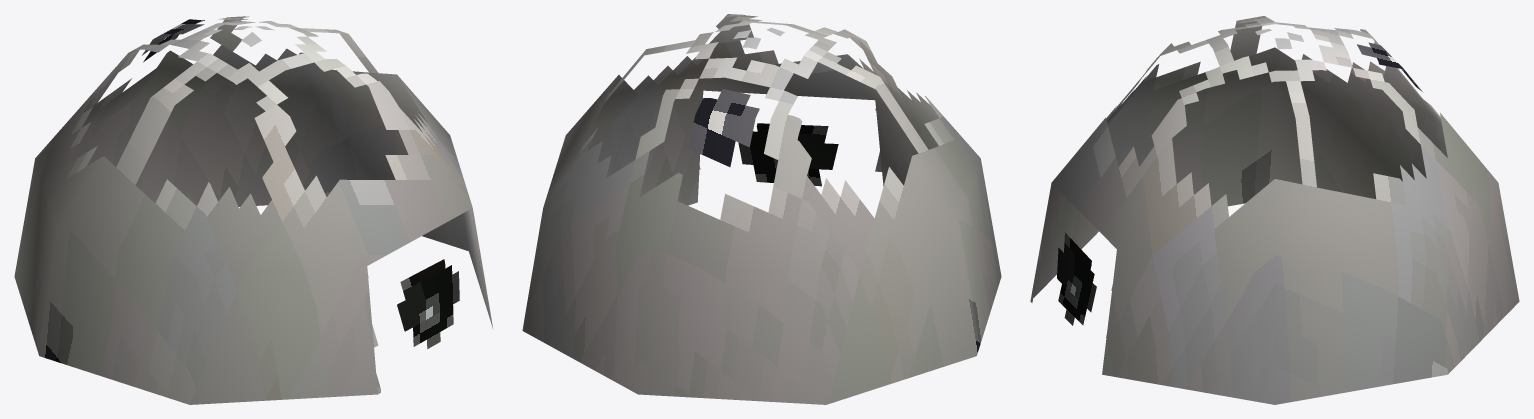
File: poi_r2_head_l3.fbx
3 renders of one model, left to right at view 1: azimuth 30°, elevation 25°; view 2: azimuth 150°, elevation 25°; view 3: azimuth 270°, elevation 25°, orthographic.
Parts seen in each view (by area): view 1: mesh_node; view 2: mesh_node; view 3: mesh_node.
Boxes of the visible parts, box(x1,y1,x2,y2) form: mesh_node: box(14, 16, 493, 404); mesh_node: box(522, 14, 1001, 404); mesh_node: box(1030, 16, 1519, 404).
Bounding box in the file's own units: 0.4349 × 0.266 × 0.4349.
